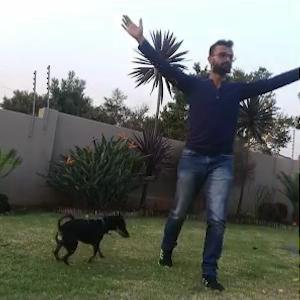takeoff: (130, 9, 292, 279)
